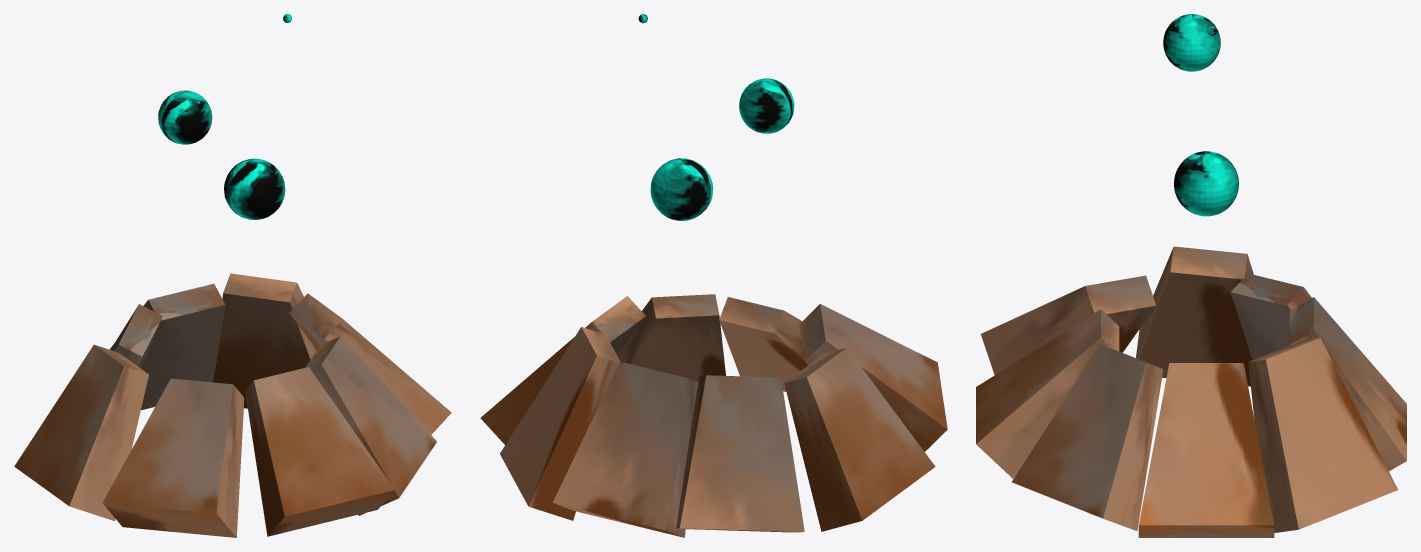
The model's file is bubble source anim.fbx.
3 views of the same model, side by side, from view 1: azimuth 30°, elevation 25°; view 2: azimuth 150°, elevation 25°; view 3: azimuth 270°, elevation 25° (orthographic). The views are drawn at different scales.
Visible parts, largest first — view 1: Cube.005, Cube.002, Cube.004, Cube.006, Cube.007, Cube.003, Cube.001, Sphere, Sphere.001, Cube.008; view 2: Cube.008, Cube.003, Cube.004, Cube.007, Cube.005, Cube.006, Cube.002, Cube.001, Sphere, Sphere.001; view 3: Cube.001, Cube.007, Cube.006, Cube.004, Cube.002, Cube.005, Cube.003, Cube.008, Sphere, Sphere.001.
Boxes of the visible parts, x1,y1,x2,y2 form: Cube.005: [102, 378, 244, 537]; Cube.002: [245, 367, 394, 536]; Cube.004: [14, 344, 148, 521]; Cube.006: [305, 336, 436, 515]; Cube.007: [213, 273, 316, 408]; Cube.003: [109, 283, 225, 410]; Cube.001: [290, 293, 451, 434]; Sphere: [224, 158, 285, 219]; Sphere.001: [158, 90, 212, 144]; Cube.008: [110, 304, 162, 368]; Cube.008: [676, 375, 804, 532]; Cube.003: [553, 361, 697, 537]; Cube.004: [784, 347, 935, 531]; Cube.007: [500, 327, 620, 520]; Cube.005: [799, 304, 947, 451]; Cube.006: [617, 294, 725, 381]; Cube.002: [719, 297, 808, 391]; Cube.001: [480, 296, 645, 444]; Sphere: [650, 158, 713, 220]; Sphere.001: [739, 78, 794, 133]; Cube.001: [1138, 363, 1274, 537]; Cube.007: [1248, 337, 1397, 532]; Cube.006: [1012, 344, 1163, 530]; Cube.004: [1136, 246, 1253, 386]; Cube.002: [976, 309, 1119, 478]; Cube.005: [981, 275, 1156, 374]; Cube.003: [1289, 297, 1406, 470]; Cube.008: [1230, 273, 1311, 360]; Sphere: [1174, 151, 1239, 216]; Sphere.001: [1163, 14, 1220, 71].
Size of the model in its own units: 140 by 156 by 129.
